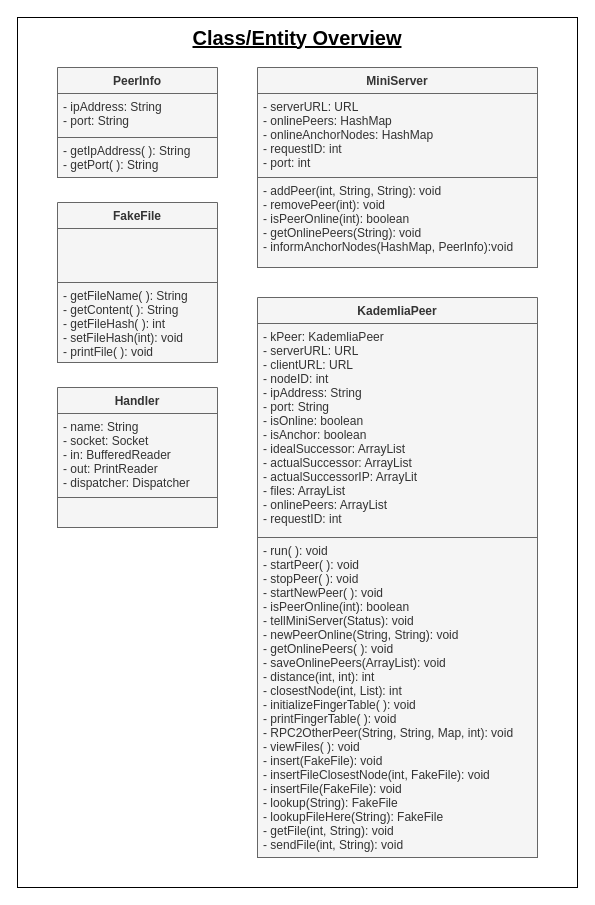
The diagram is 595 pixels wide and 905 high, and some of its shapes have lost their labels. Here are the shapes that lost their labels. From the top down, the centre of each, then its label:
At pixel 137 255: "- filename: String - content: String - fileHash: int".
At pixel 137 512: "- run( ): void".
